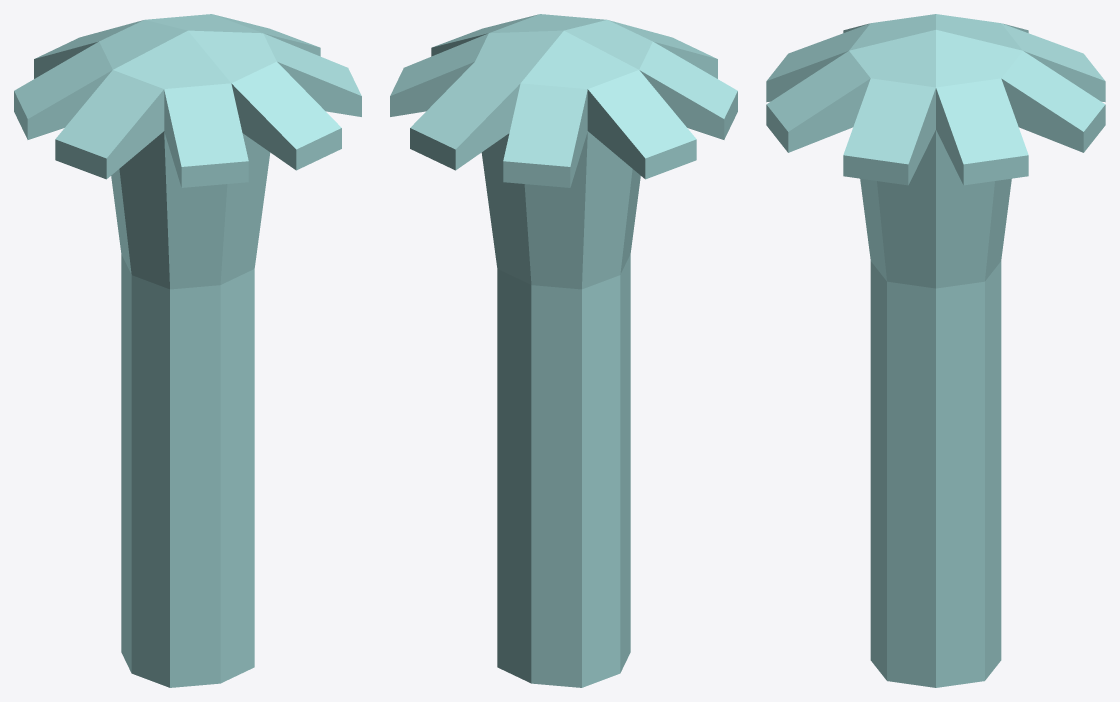
Rendered from prop-geyser.fbx.
3 views of the same model, side by side, from view 1: azimuth 30°, elevation 25°; view 2: azimuth 150°, elevation 25°; view 3: azimuth 270°, elevation 25° (orthographic).
Parts seen in each view (by area): view 1: prop-geyser; view 2: prop-geyser; view 3: prop-geyser.
Part boxes in pixels (x1,y1,x2,y2): prop-geyser: [14, 14, 361, 687]; prop-geyser: [390, 14, 737, 687]; prop-geyser: [766, 14, 1105, 687].
Size of the model in its own units: 48.72 by 100 by 48.72.
